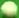white: (0, 0, 19, 18)
